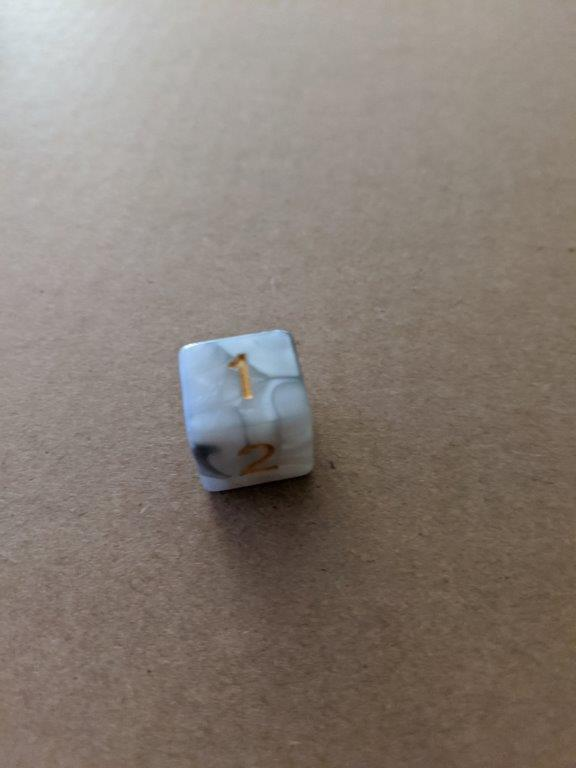d6-1: (179, 326, 315, 490)
